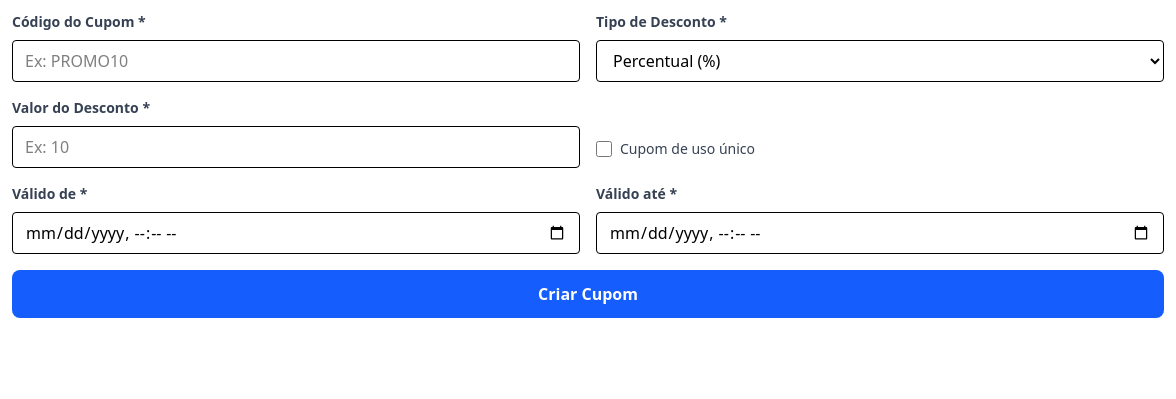
Test: CouponForm › should submit form successfully
Type "SAVE20" into the field labelled "Código do Cupom *" at (296, 61), box [12,40,580,82]
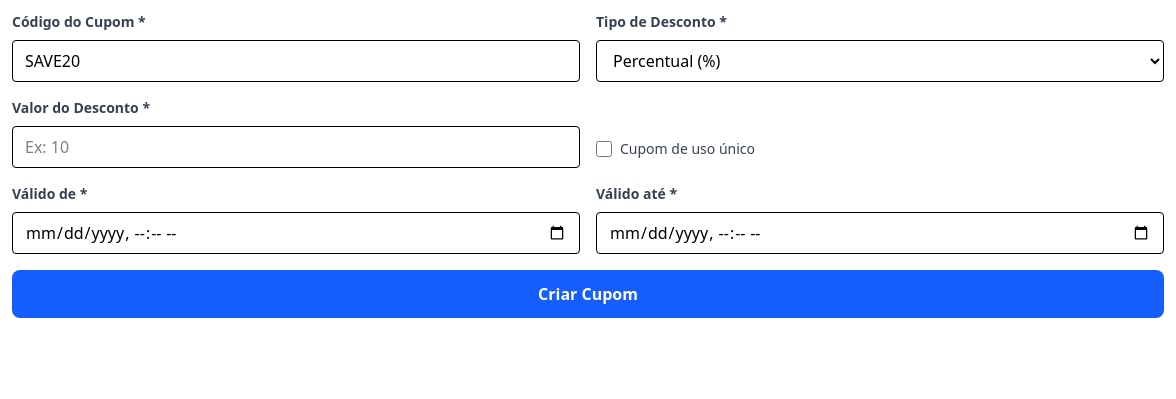
Type "20" into the number field labelled "Valor do Desconto *" at (296, 147), box [12,126,580,168]
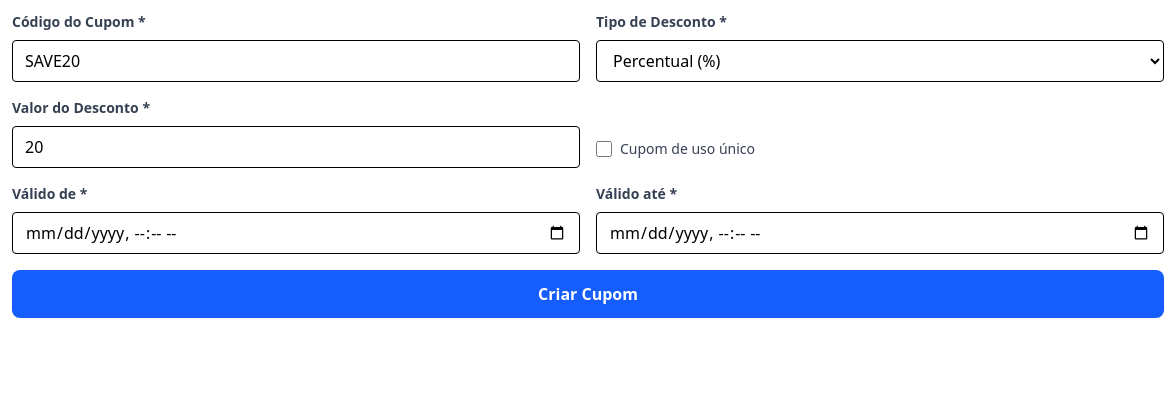
Type "2025-01-01T00:00" into the field labelled "Válido de *" at (296, 233), box [12,212,580,254]
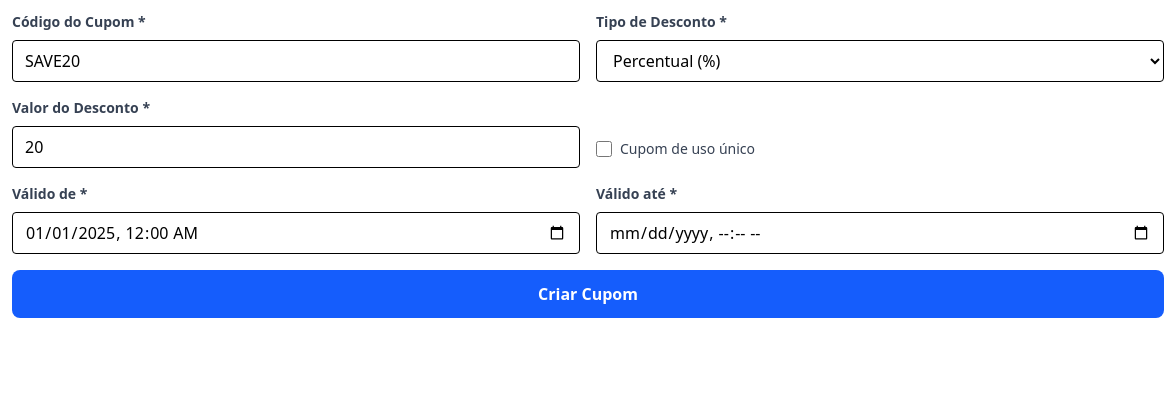
Type "2025-12-31T23:59" into the field labelled "Válido até *" at (880, 233), box [596,212,1164,254]
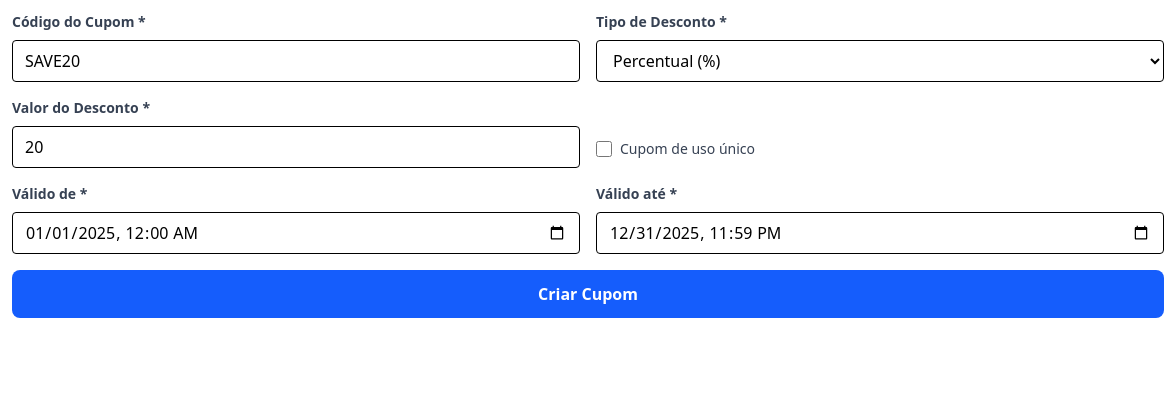
Click the button "Criar Cupom" at (588, 294), box [12,270,1164,318]
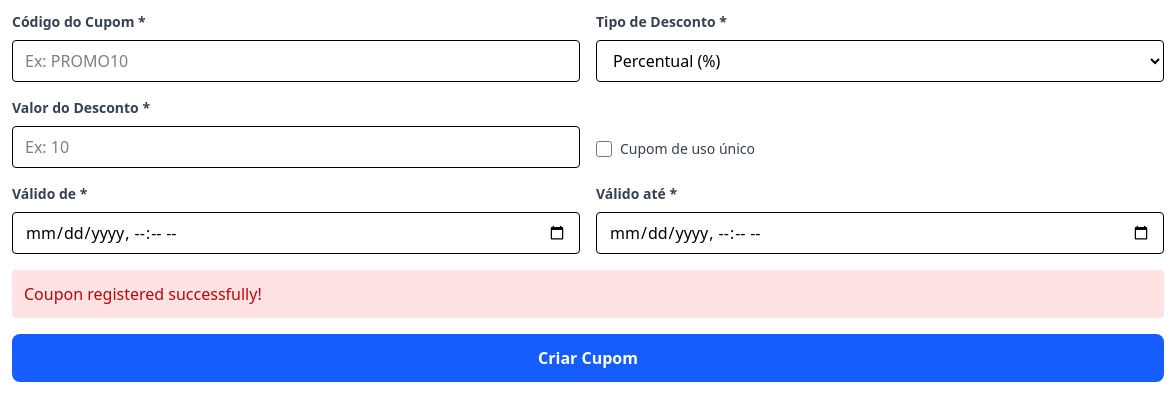
expect the text "Coupon registered successfully!" is shown: met, box [12,270,1164,318]
